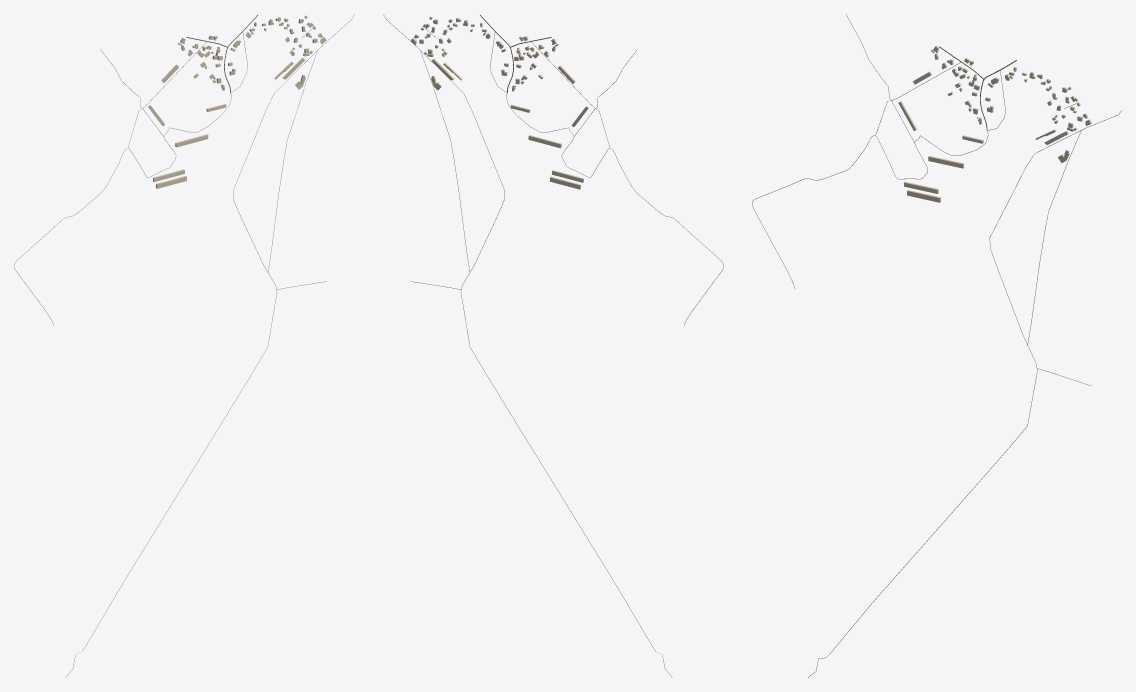
The model's file is historic-palestine-08_30_3499_3245.glb.
The picture shows the model from 3 angles, left to right: view 1: azimuth 30°, elevation 25°; view 2: azimuth 150°, elevation 25°; view 3: azimuth 330°, elevation 25°; orthographic projection. The views are drawn at different scales.
Visible parts, largest first — view 1: Road .002; view 2: Road .002; view 3: Road .002.
Boxes of the visible parts, left/top/right/bottom form: Road .002: left=65, top=14, right=354, bottom=677; Road .002: left=383, top=14, right=672, bottom=677; Road .002: left=808, top=110, right=1121, bottom=677.
Size of the model in its own units: 1404 by 2443 by 8.7.
